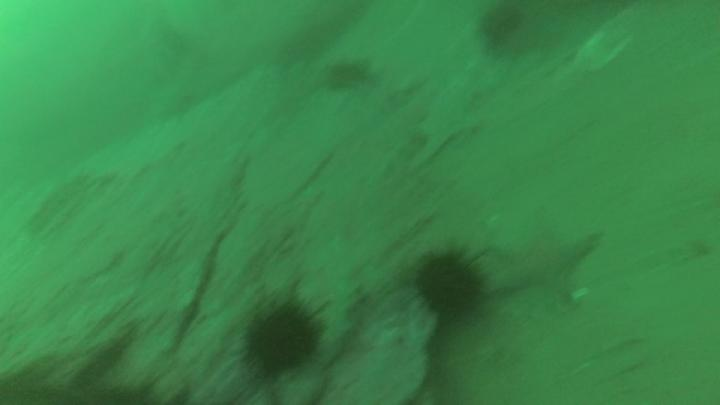echinus: (231, 291, 341, 388), (402, 240, 503, 333)
starfish: (490, 225, 603, 313)
